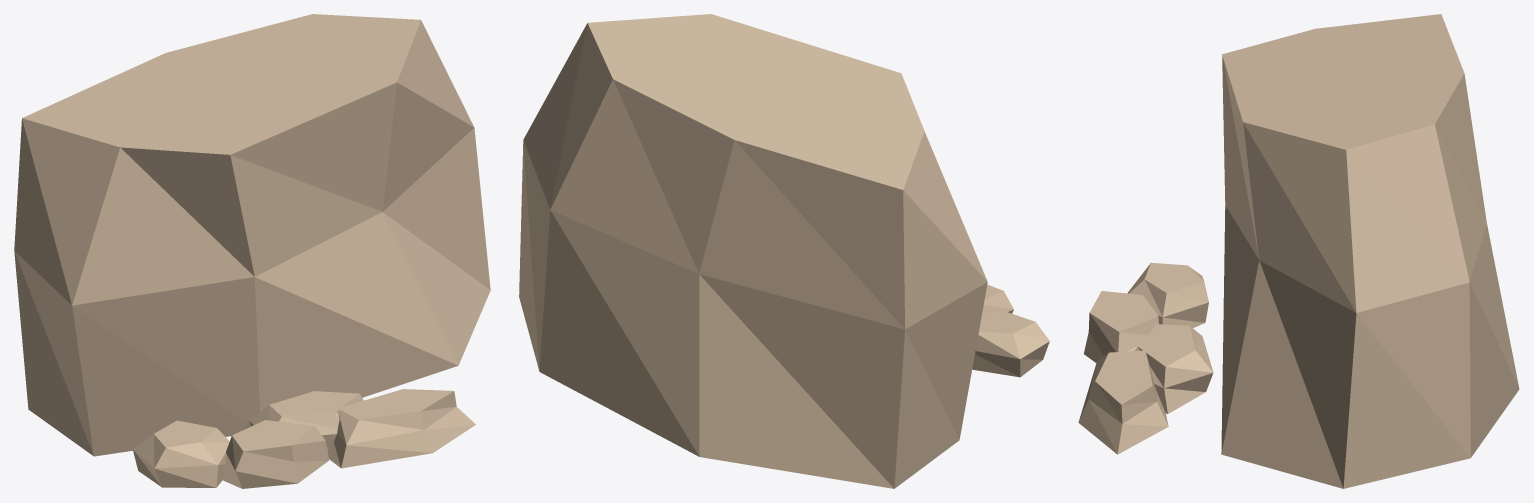
The model's file is temperate-forest-ecology-sandstone-crag-slab-f44446be__3876.glb.
The picture shows the model from 3 angles, left to right: view 1: azimuth 30°, elevation 25°; view 2: azimuth 150°, elevation 25°; view 3: azimuth 270°, elevation 25°; orthographic projection. The views are drawn at different scales.
Parts seen in each view (by area): view 1: sandstone-crag-slab; view 2: sandstone-crag-slab; view 3: sandstone-crag-slab.
Boxes of the visible parts, box(x1,y1,x2,y2) form: sandstone-crag-slab: box(14, 14, 490, 488); sandstone-crag-slab: box(519, 14, 1049, 488); sandstone-crag-slab: box(1078, 14, 1519, 488).
Size of the model in its own units: 3.45 by 2.54 by 2.83.
